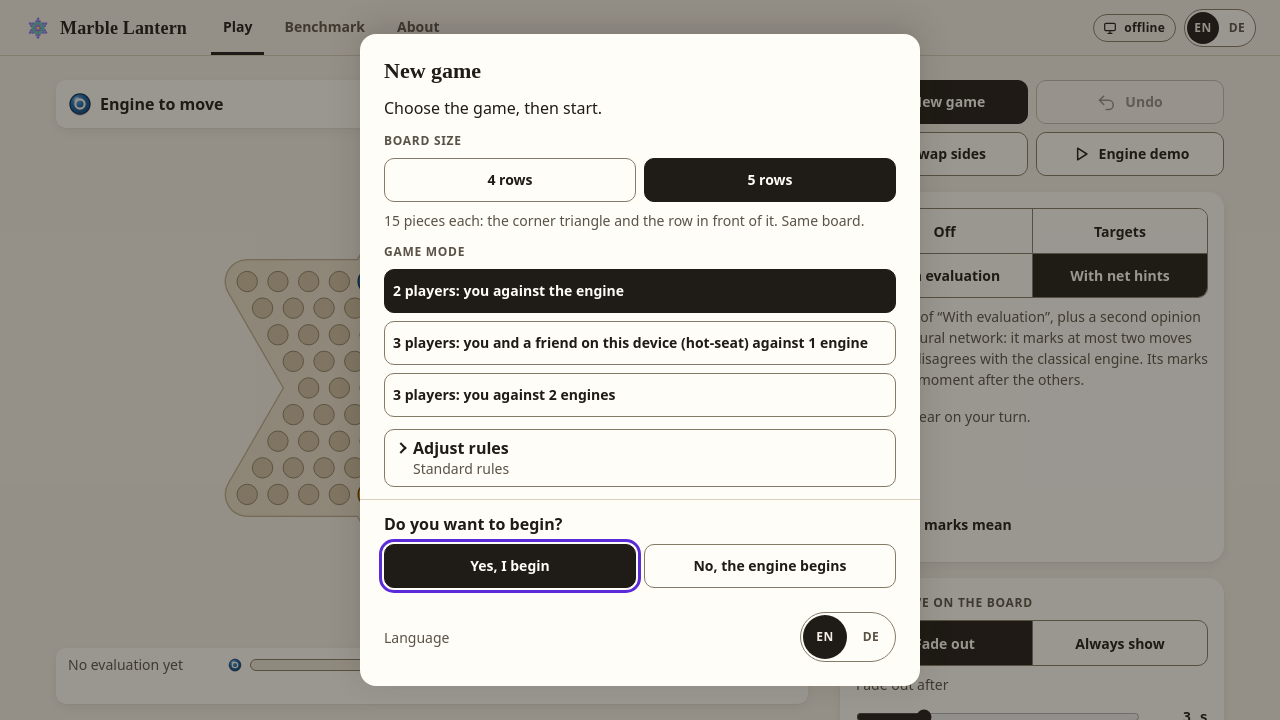
Test: net hints in the play screen, wide › draws the badge on the origin piece, the chip with the Falle glyph, the net block in the card, and no panel
This screenshot has width=1280, height=720.
Click the button "No, the engine begins" at (770, 566), box [644,544,896,588]
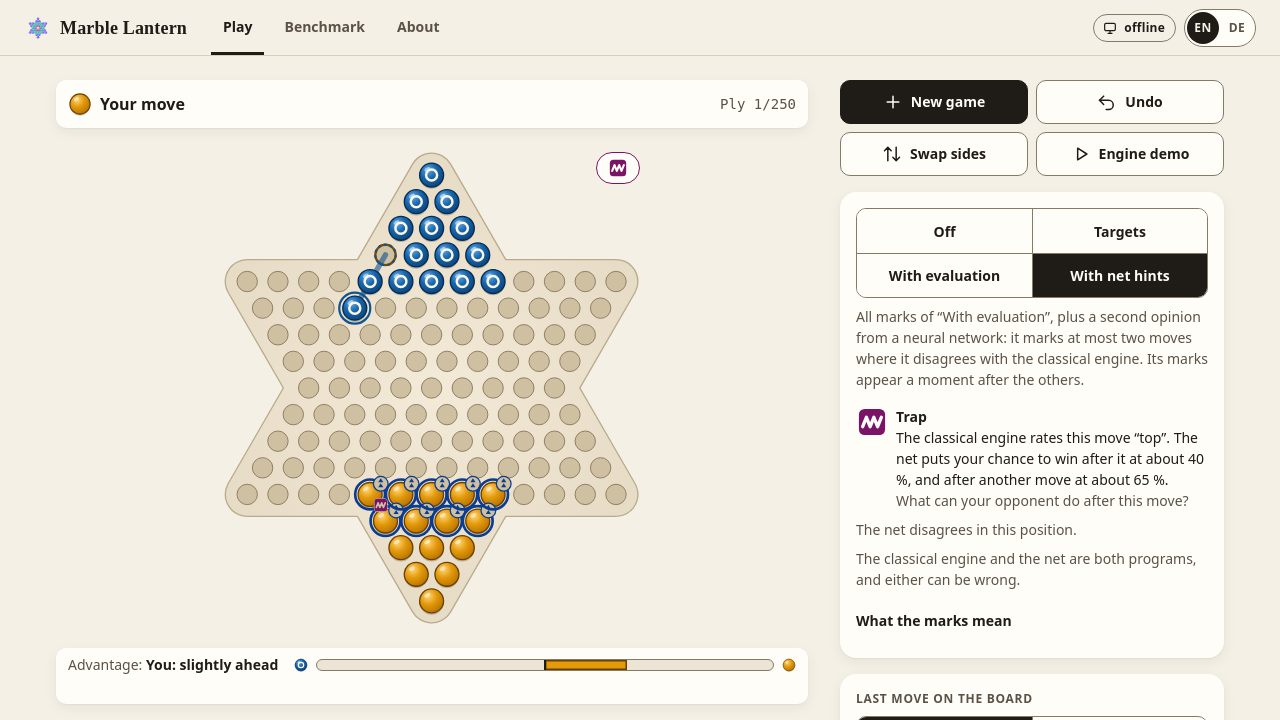
expect the element that starts with "Trap" is shown: met, box [856,406,1208,511]
